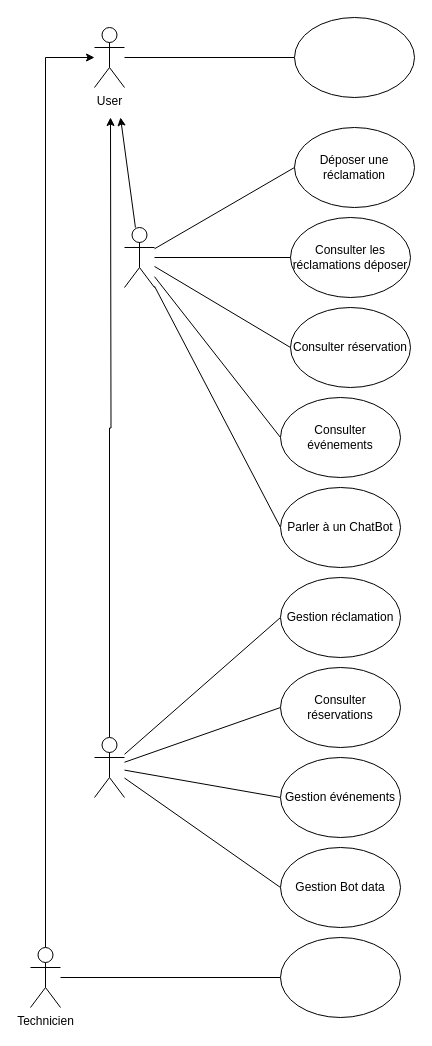
Image size: 432x1046. Some labels were removed from this diagram. Here are the shapes that lost their labels. From the top down, the centre of each, then its label:
the point at 354,57: Authentification
the point at 139,257: Passager
the point at 109,767: Admin
the point at 340,977: Consulter réclamation
